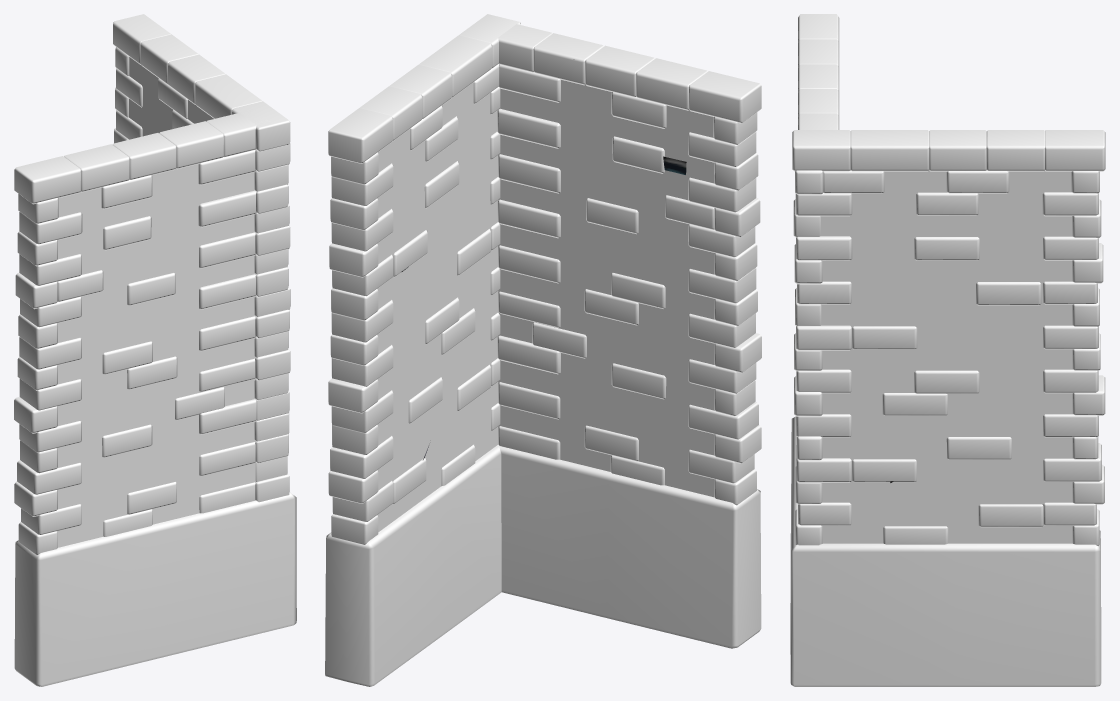
The model's file is BarrierStreetStyleCorner90.glb.
3 renders of one model, left to right at view 1: azimuth 30°, elevation 25°; view 2: azimuth 150°, elevation 25°; view 3: azimuth 270°, elevation 25°, orthographic. The views are drawn at different scales.
Visible parts, largest first — view 1: BarrierHologram; view 2: BarrierHologram; view 3: BarrierHologram.
Part boxes in pixels (x1,y1,x2,y2): BarrierHologram: [14, 14, 296, 686]; BarrierHologram: [325, 14, 761, 686]; BarrierHologram: [790, 14, 1105, 686].
Size of the model in its own units: 1.12 by 2.05 by 1.09.
3 materials, 2 textured.
